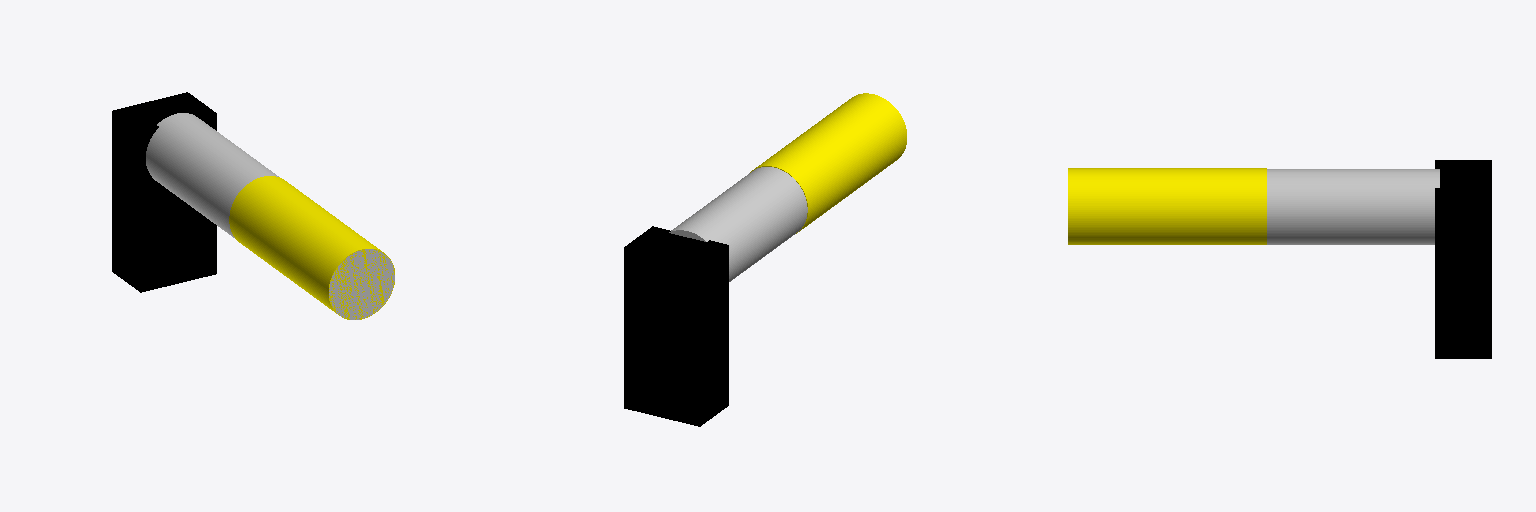
File: spongeleg.obj
3 renders of one model, left to right at view 1: azimuth 30°, elevation 25°; view 2: azimuth 150°, elevation 25°; view 3: azimuth 270°, elevation 25°, orthographic.
Parts seen in each view (by area): view 1: Object.2, Object.1, Object.3; view 2: Object.2, Object.3, Object.1; view 3: Object.3, Object.1, Object.2.
Part boxes in pixels (x1,y1,x2,y2): Object.2: (112,92,216,292); Object.1: (146,113,394,319); Object.3: (229,176,394,319); Object.2: (624,226,728,426); Object.3: (750,93,906,233); Object.1: (669,167,807,281); Object.3: (1068,168,1266,244); Object.1: (1267,169,1439,244); Object.2: (1435,160,1491,358).
Bounding box in the file's own units: 19.14 × 40.57 × 92.63.